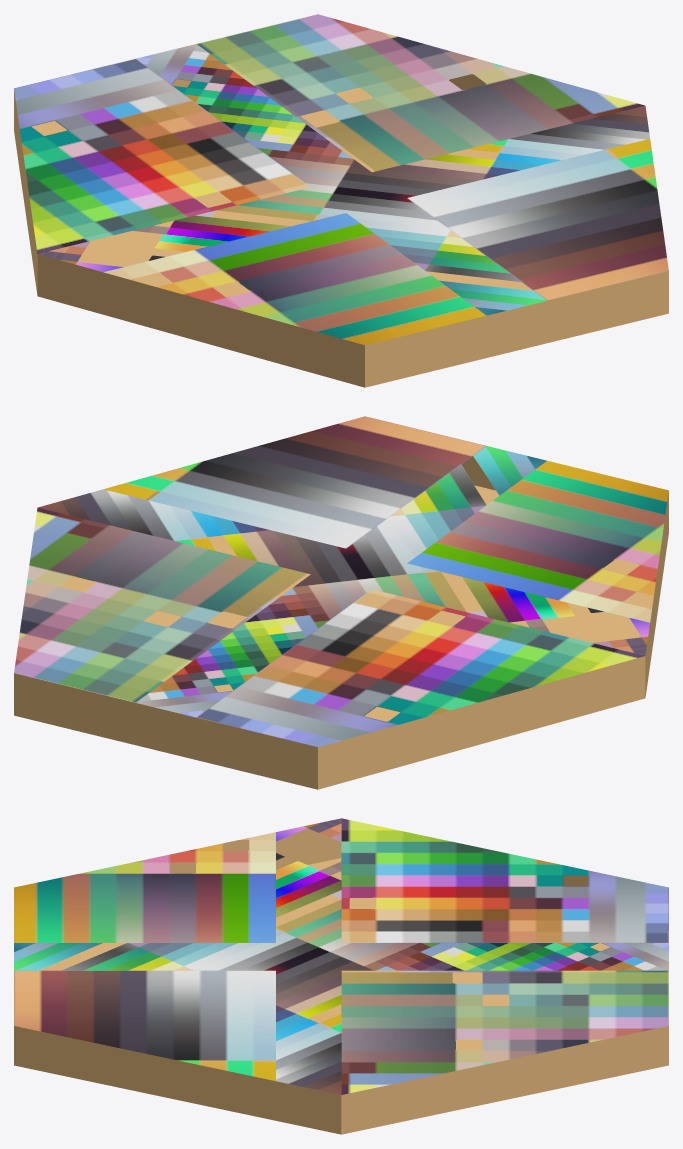
Rendered from Village4.fbx.
3 views of the same model, one above another, from view 1: azimuth 30°, elevation 25°; view 2: azimuth 150°, elevation 25°; view 3: azimuth 270°, elevation 25° (orthographic). The views are drawn at different scales.
Parts seen in each view (by area): view 1: Village4; view 2: Village4; view 3: Village4.
Boxes of the visible parts, x1,y1,x2,y2 form: Village4: [14, 14, 668, 387]; Village4: [14, 416, 668, 789]; Village4: [14, 818, 668, 1134].
Size of the model in its own units: 1500 by 100 by 1500.
